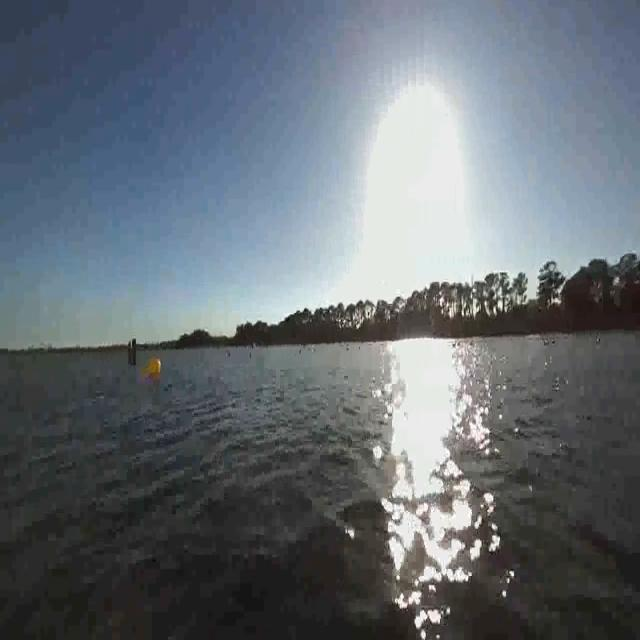yellow-buoy: (146, 355, 161, 377)
